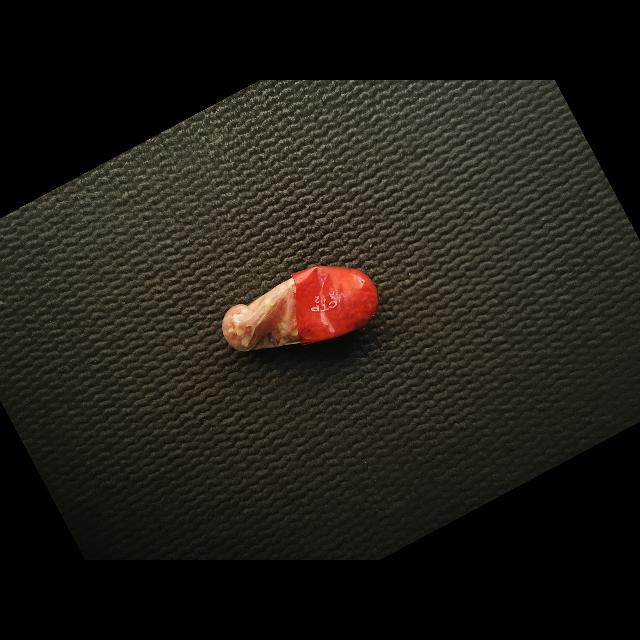Defective Capsule: (222, 266, 378, 351)
